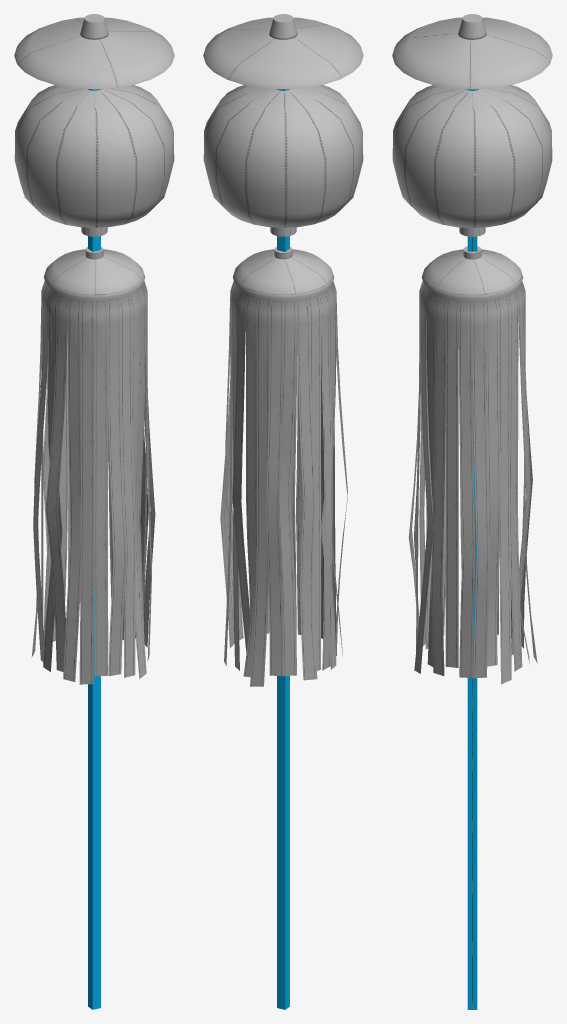
File: JWC_Flag_UmaJirushi_03.fbx
3 views of the same model, side by side, from view 1: azimuth 30°, elevation 25°; view 2: azimuth 150°, elevation 25°; view 3: azimuth 270°, elevation 25° (orthographic).
Visible parts, largest first — view 1: JWC_Flag_UmaJirushi_03, C_JWC_Flag_UmaJirushi_03; view 2: JWC_Flag_UmaJirushi_03, C_JWC_Flag_UmaJirushi_03; view 3: JWC_Flag_UmaJirushi_03, C_JWC_Flag_UmaJirushi_03.
Boxes of the visible parts, x1,y1,x2,y2 form: JWC_Flag_UmaJirushi_03: (14,14,174,684); C_JWC_Flag_UmaJirushi_03: (88,89,100,1009); JWC_Flag_UmaJirushi_03: (203,14,363,686); C_JWC_Flag_UmaJirushi_03: (277,89,289,1009); JWC_Flag_UmaJirushi_03: (392,14,552,1009); C_JWC_Flag_UmaJirushi_03: (467,89,477,1009).
Bounding box in the file's own units: 0.7929 × 5.39 × 0.7929.
